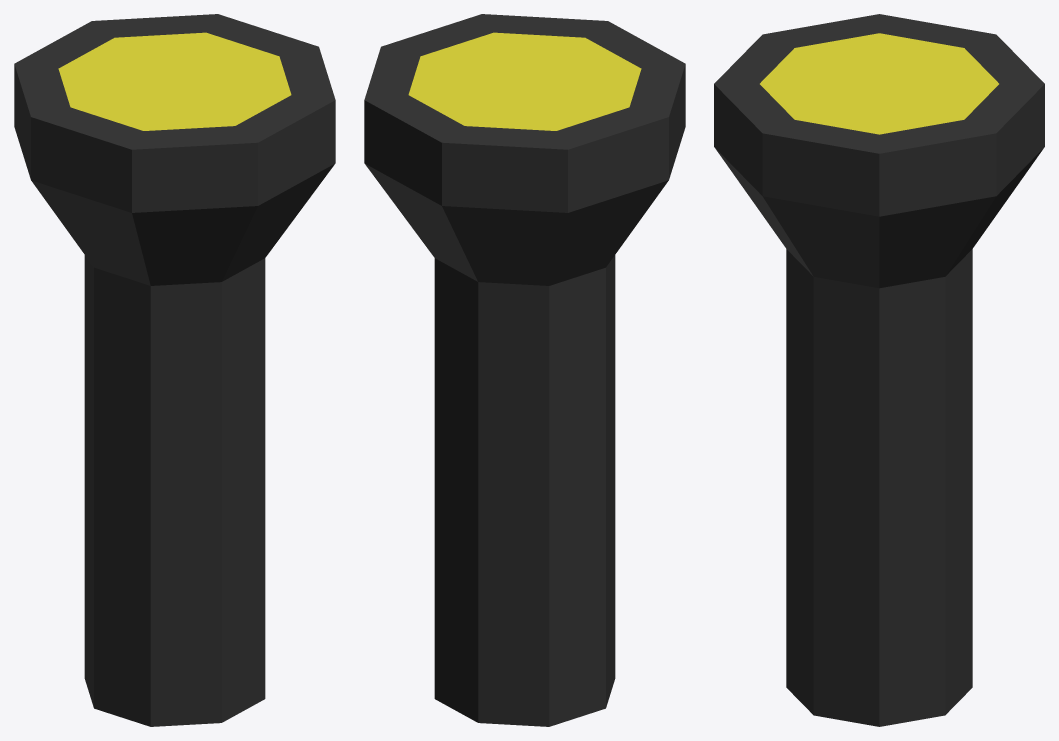
Rendered from Flashlight.fbx.
The picture shows the model from 3 angles, left to right: view 1: azimuth 30°, elevation 25°; view 2: azimuth 150°, elevation 25°; view 3: azimuth 270°, elevation 25°; orthographic projection.
Parts seen in each view (by area): view 1: Flashlight; view 2: Flashlight; view 3: Flashlight.
Part boxes in pixels (x1,y1,x2,y2): Flashlight: (14, 14, 335, 726); Flashlight: (364, 14, 685, 726); Flashlight: (714, 14, 1044, 726).
Bounding box in the file's own units: 28.95 × 58.29 × 28.95.
